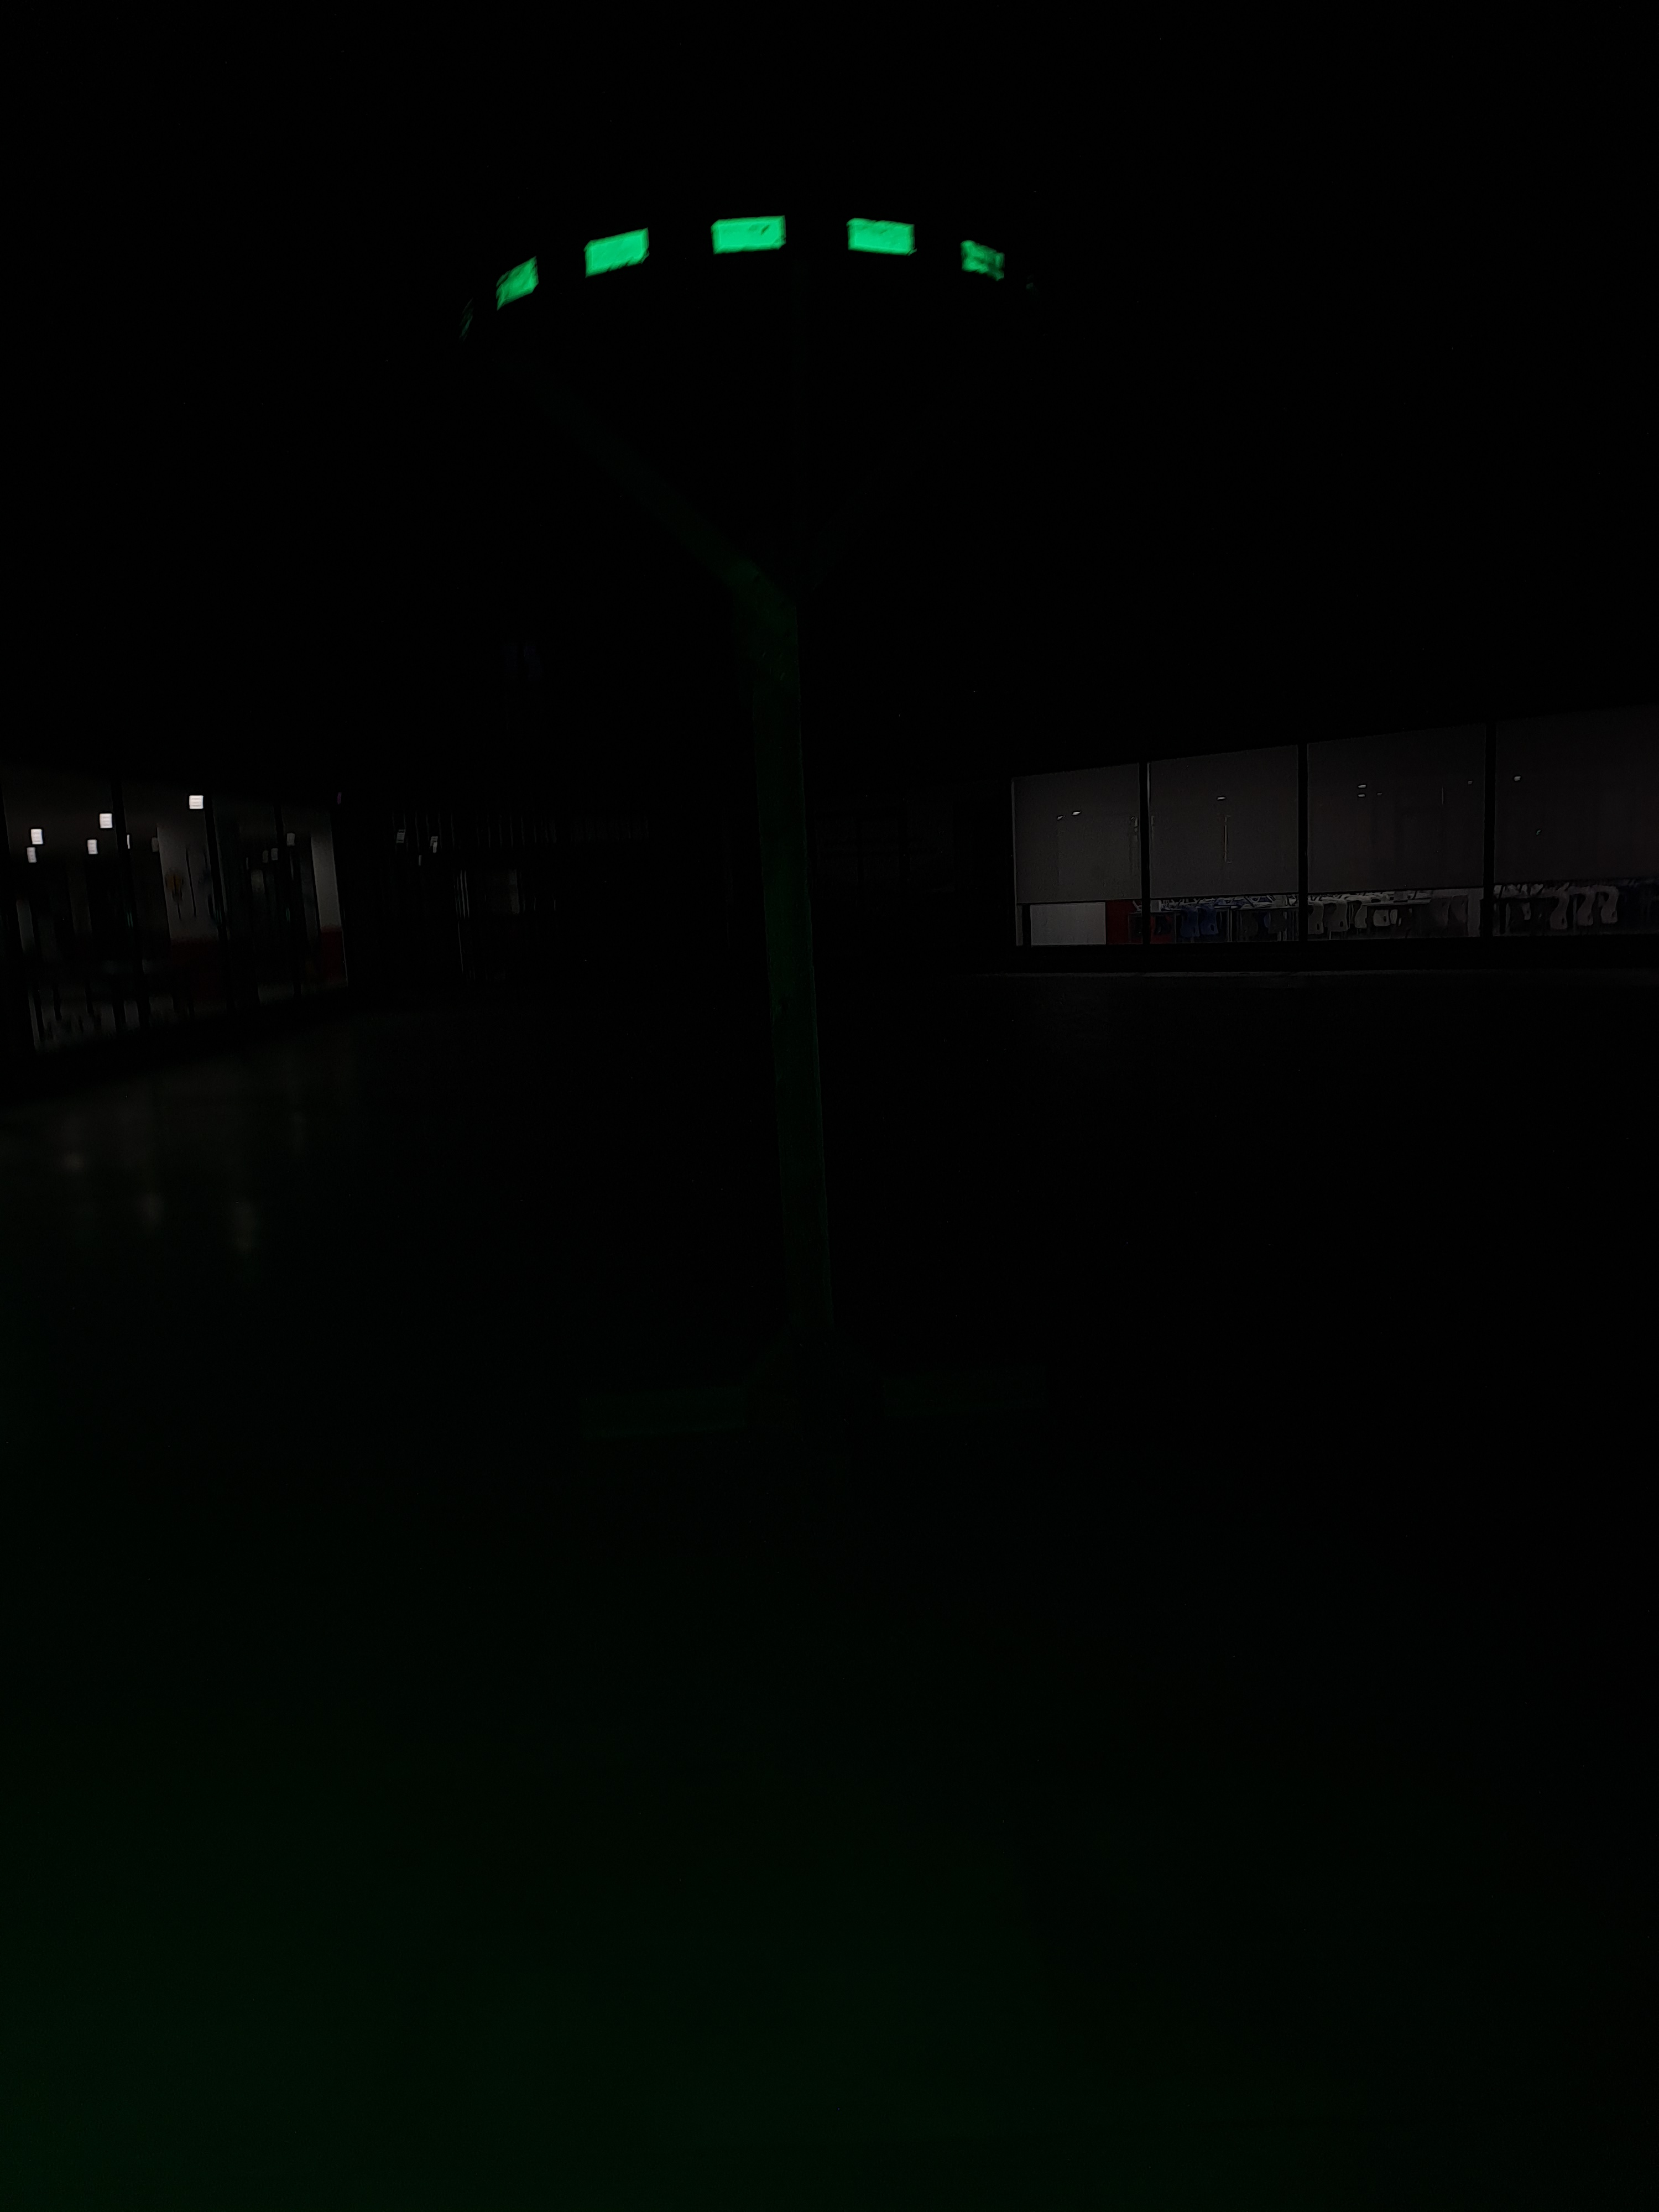hoop: (490, 192, 1012, 324)
